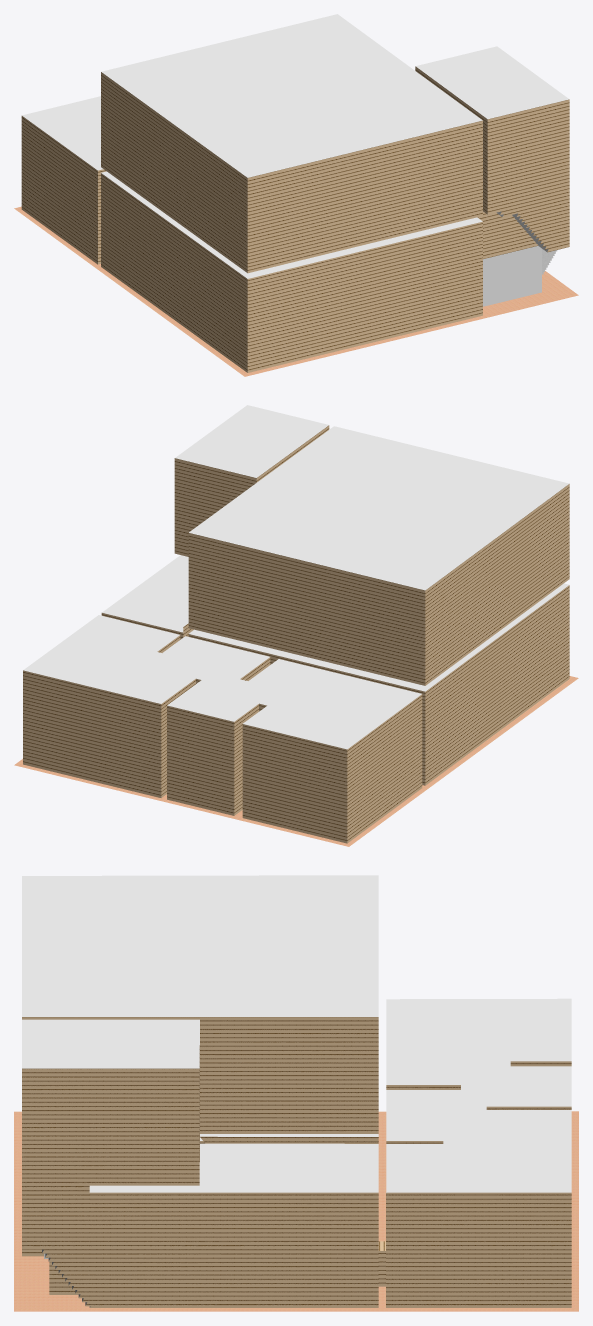
Rendered from level2_3.dae.
The picture shows the model from 3 angles, top to bottom: view 1: azimuth 30°, elevation 25°; view 2: azimuth 150°, elevation 25°; view 3: azimuth 270°, elevation 25°; orthographic projection. The views are drawn at different scales.
Visible parts, largest first — view 1: SketchUp (×8); view 2: SketchUp (×7); view 3: SketchUp (×6).
Boxes of the visible parts, x1,y1,x2,y2 form: SketchUp (×8): (14, 14, 578, 376); SketchUp (×7): (14, 405, 578, 846); SketchUp (×6): (14, 875, 578, 1311).
Bounding box in the file's own units: 827 × 985 × 461.
4 materials, 3 textured.
